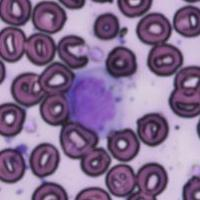M: (62, 68, 126, 138)
